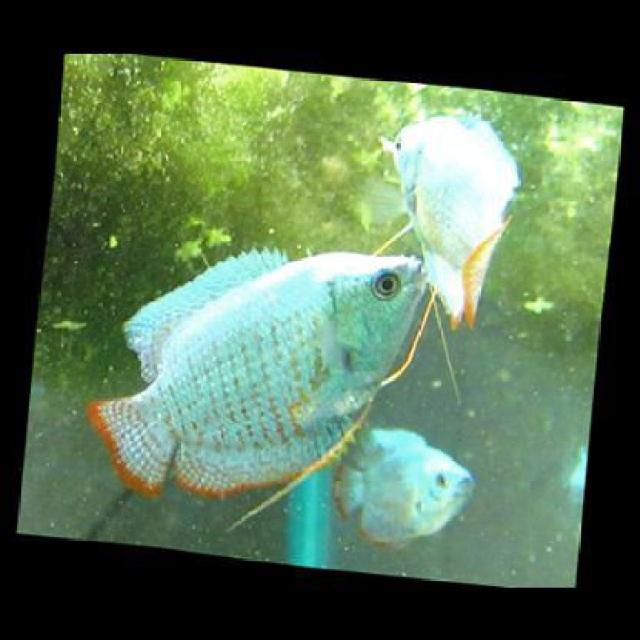Gourami: (84, 241, 439, 504)
